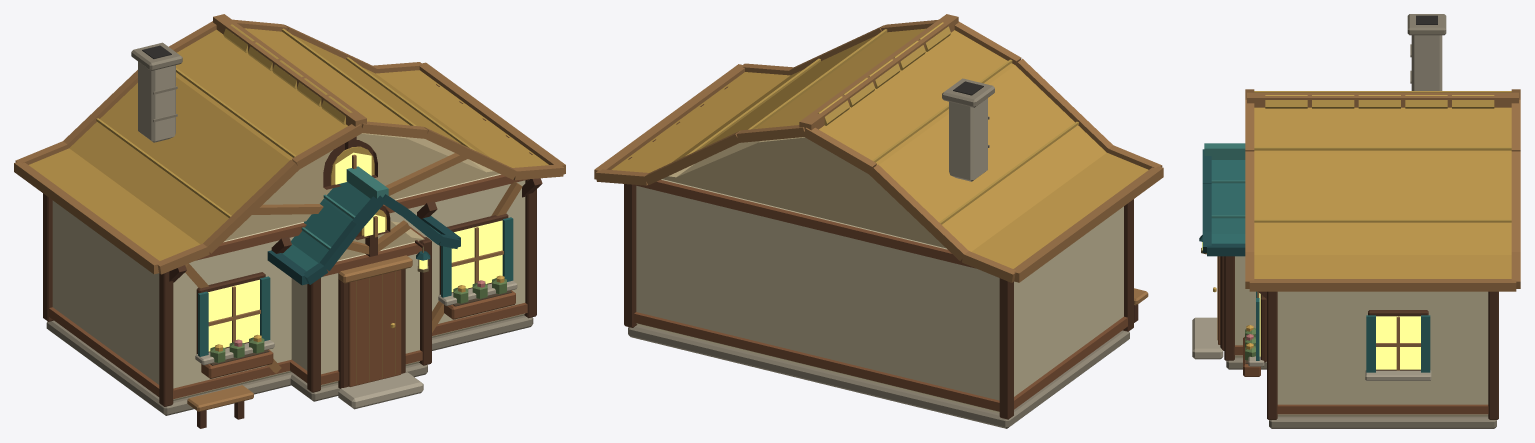
File: house-c.glb
3 renders of one model, left to right at view 1: azimuth 30°, elevation 25°; view 2: azimuth 150°, elevation 25°; view 3: azimuth 270°, elevation 25°, orthographic. The views are drawn at different scales.
Parts seen in each view (by area): view 1: house-c; view 2: house-c; view 3: house-c.
Part boxes in pixels (x1,y1,x2,y2): house-c: (14, 14, 565, 428); house-c: (594, 14, 1163, 428); house-c: (1192, 14, 1520, 428).
Size of the model in its own units: 8.55 by 5.69 by 6.2.
